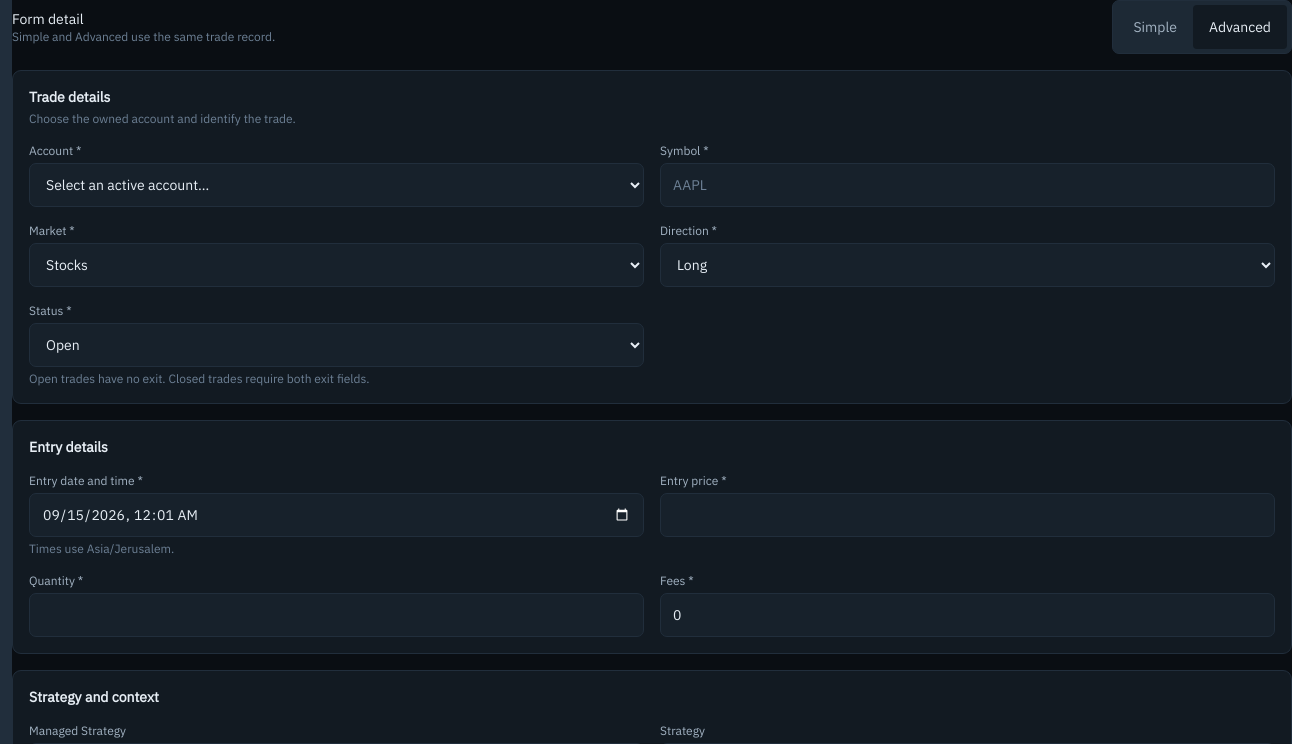
Test case: TradeForm › preserves advanced values while switching presentation modes
This screenshot has width=1292, height=744.
Click the button "Advanced". click: [1240, 27]
box: [1193,5,1287,49]
(page scrolled)
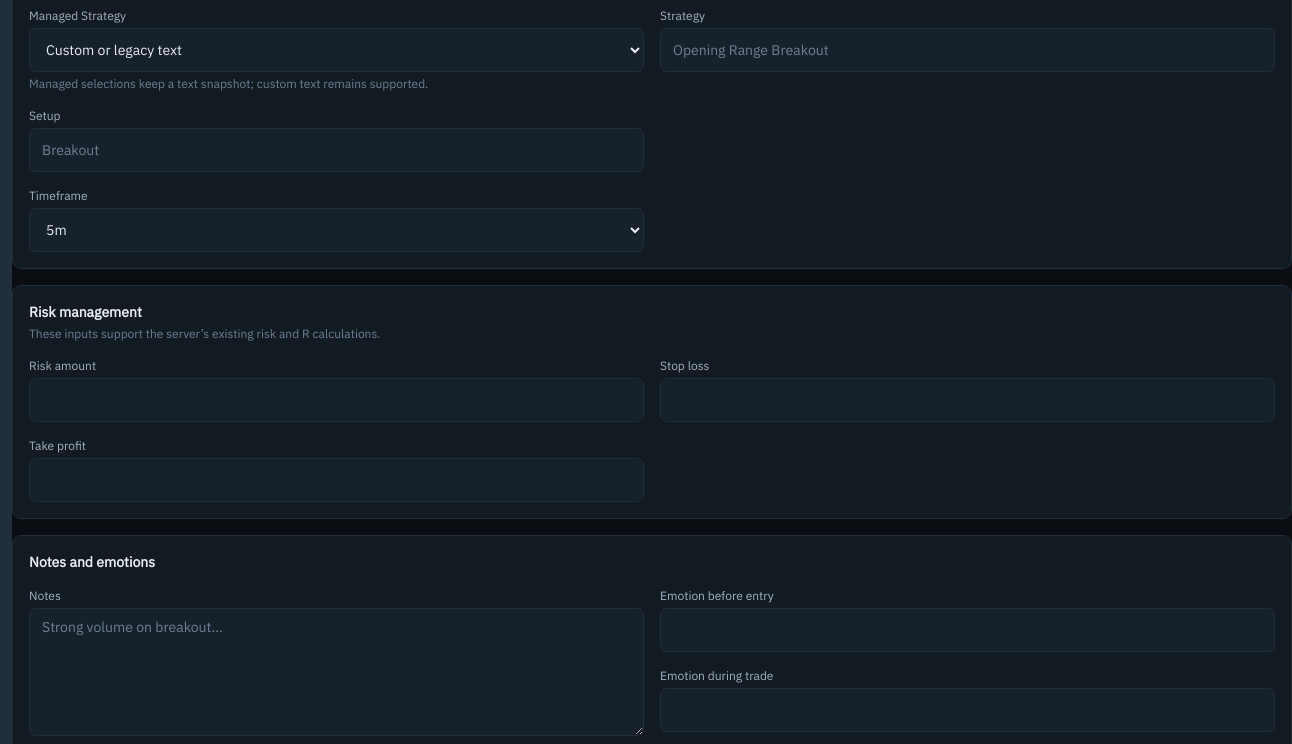
Type "125" into the number field labelled "Risk amount". click: [336, 400]
box: [29,378,644,422]
(page scrolled)
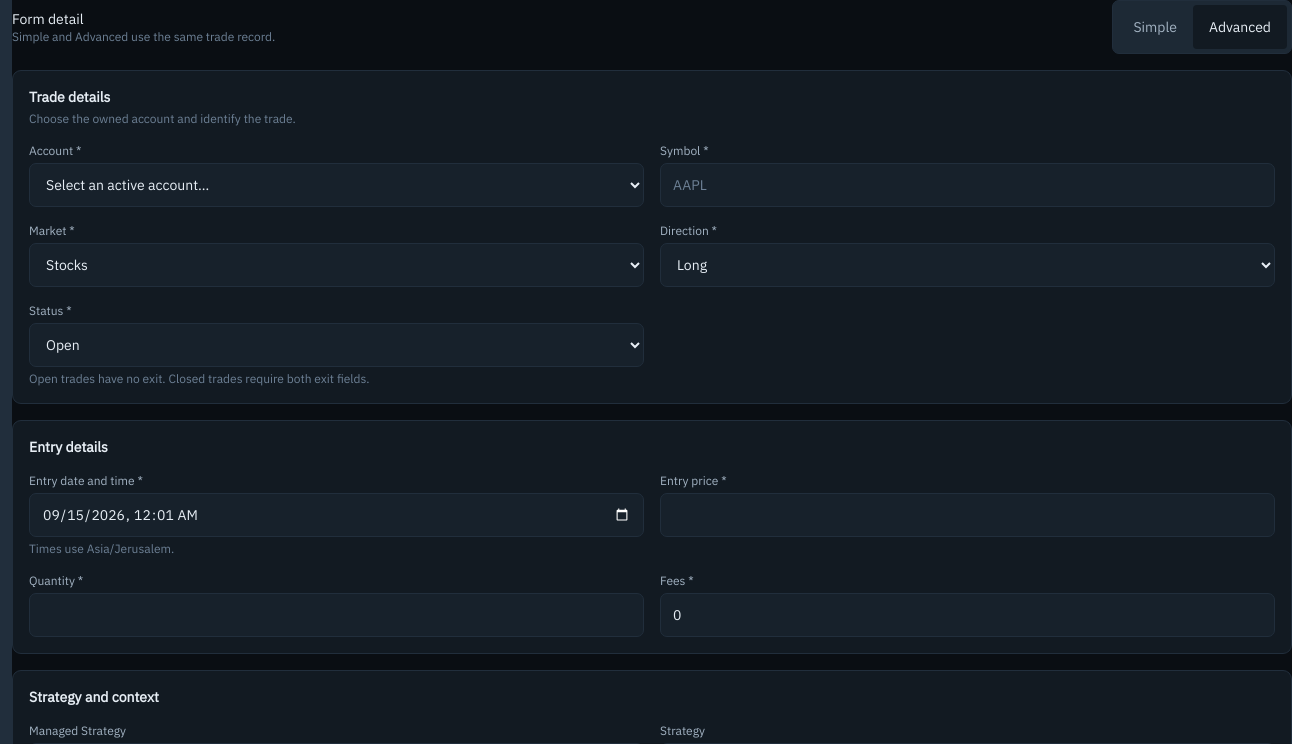
Click the button "Simple". click: [1155, 27]
box: [1118,5,1193,49]
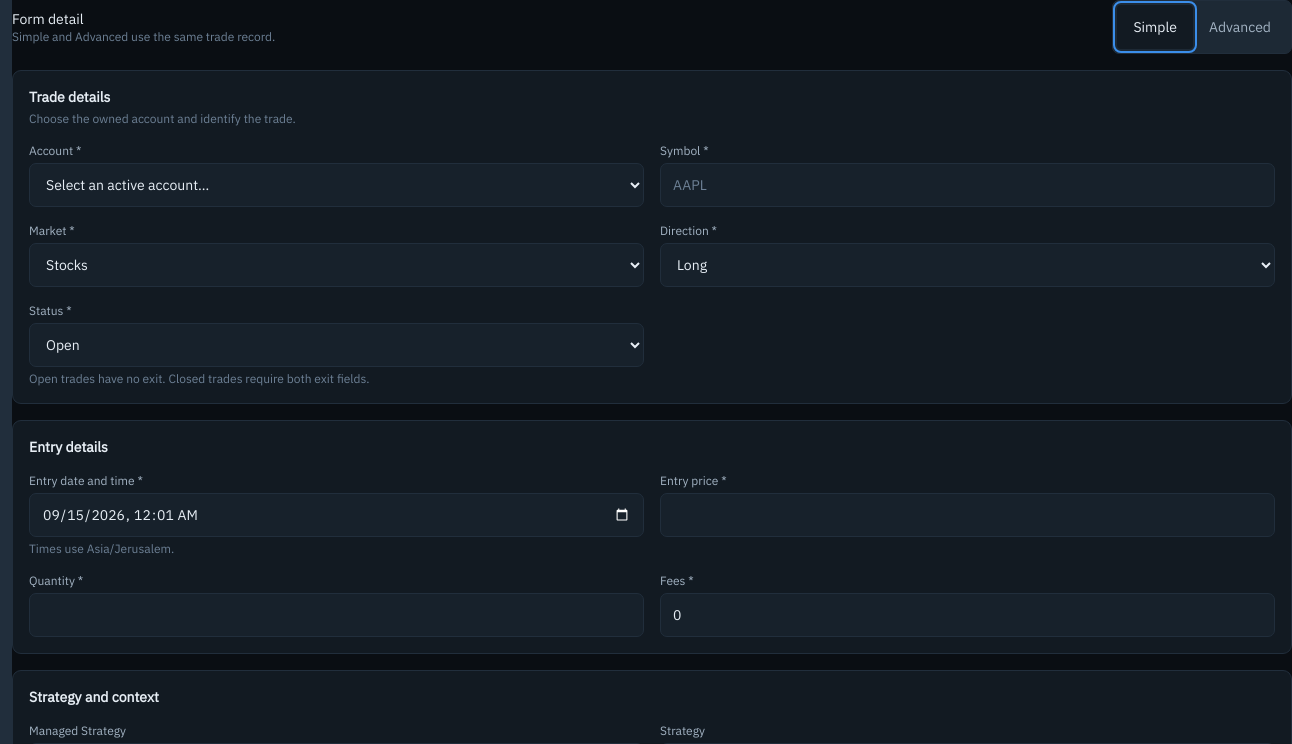
Click the button "Advanced". click: [1240, 27]
box: [1193,5,1287,49]
(page scrolled)
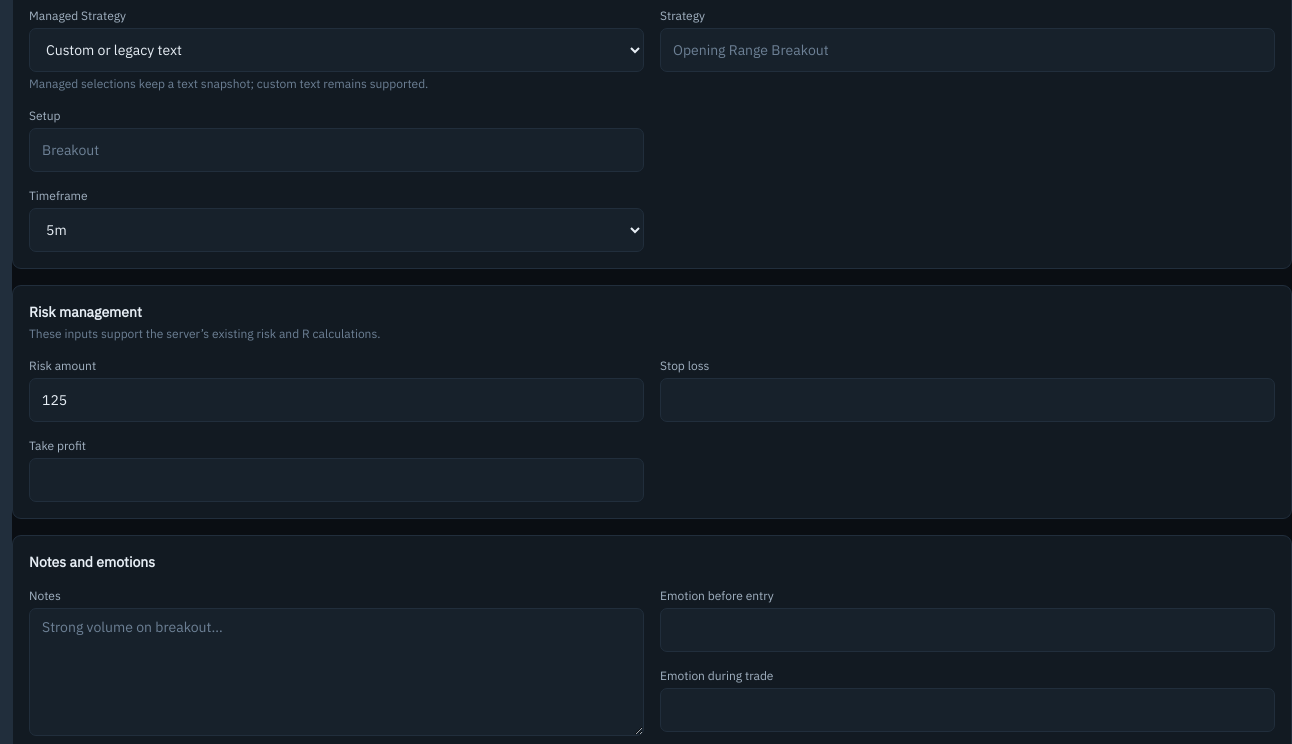
Expected: the number field labelled "Risk amount" holds "125", [29,378,644,422]
